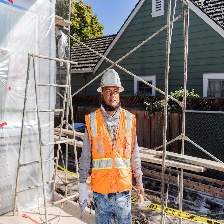helmet: (95, 69, 128, 99)
person: (80, 65, 140, 223)
vest: (82, 107, 136, 192)
